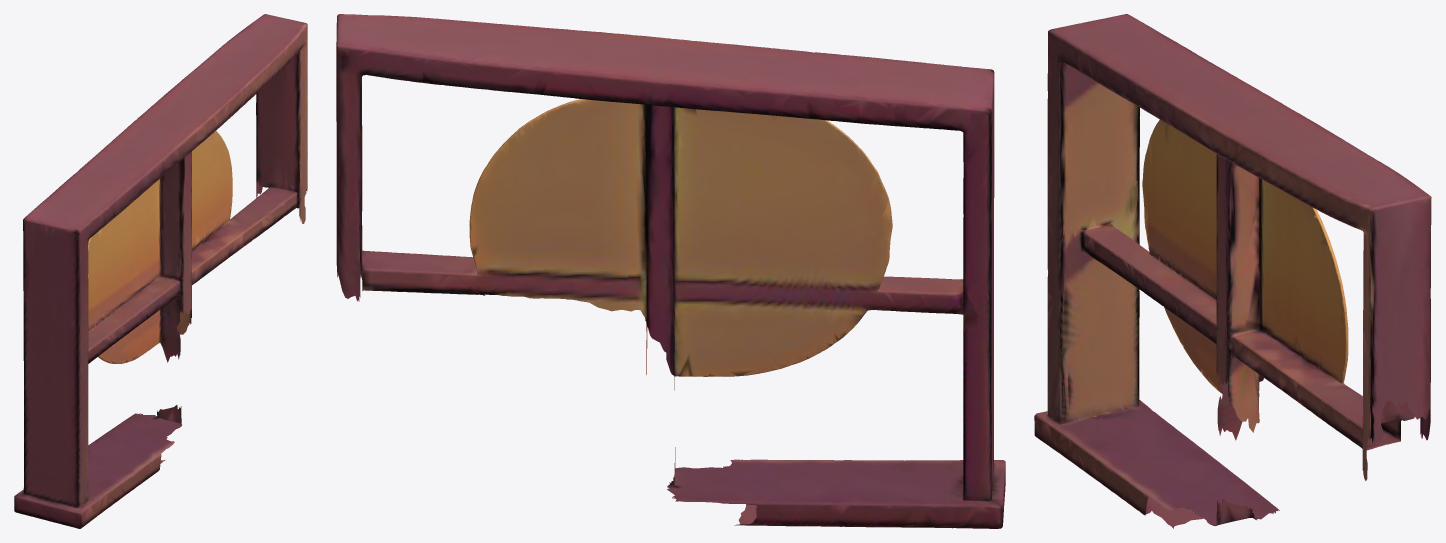
The model's file is window_placed.glb.
3 views of the same model, side by side, from view 1: azimuth 30°, elevation 25°; view 2: azimuth 150°, elevation 25°; view 3: azimuth 270°, elevation 25° (orthographic). The views are drawn at different scales.
Parts seen in each view (by area): view 1: window; view 2: window; view 3: window.
Boxes of the visible parts, bbox=[...] form: window: bbox=[14, 14, 307, 528]; window: bbox=[336, 14, 1005, 528]; window: bbox=[1034, 14, 1431, 528].
Bounding box in the file's own units: 0.396 × 0.3319 × 0.2571.
1 material, 1 textured.
